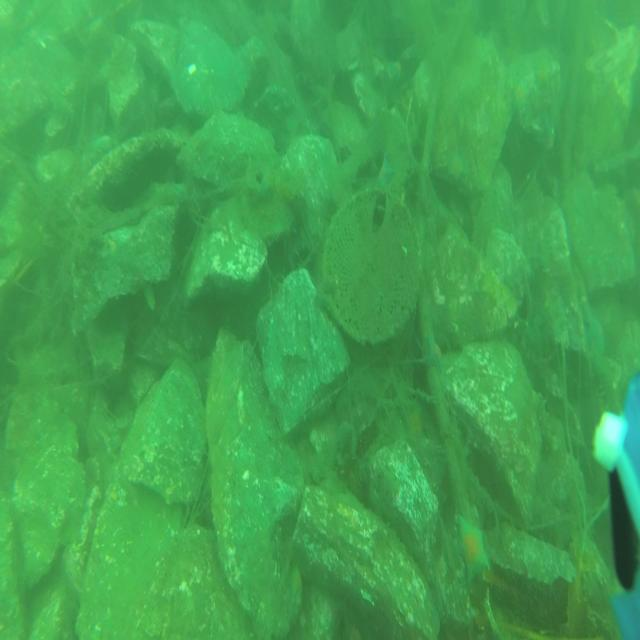holothurian: (533, 390, 553, 452)
starfish: (452, 513, 492, 592), (580, 307, 607, 359), (509, 71, 532, 119), (445, 148, 470, 189), (375, 150, 396, 196), (422, 333, 444, 372)
